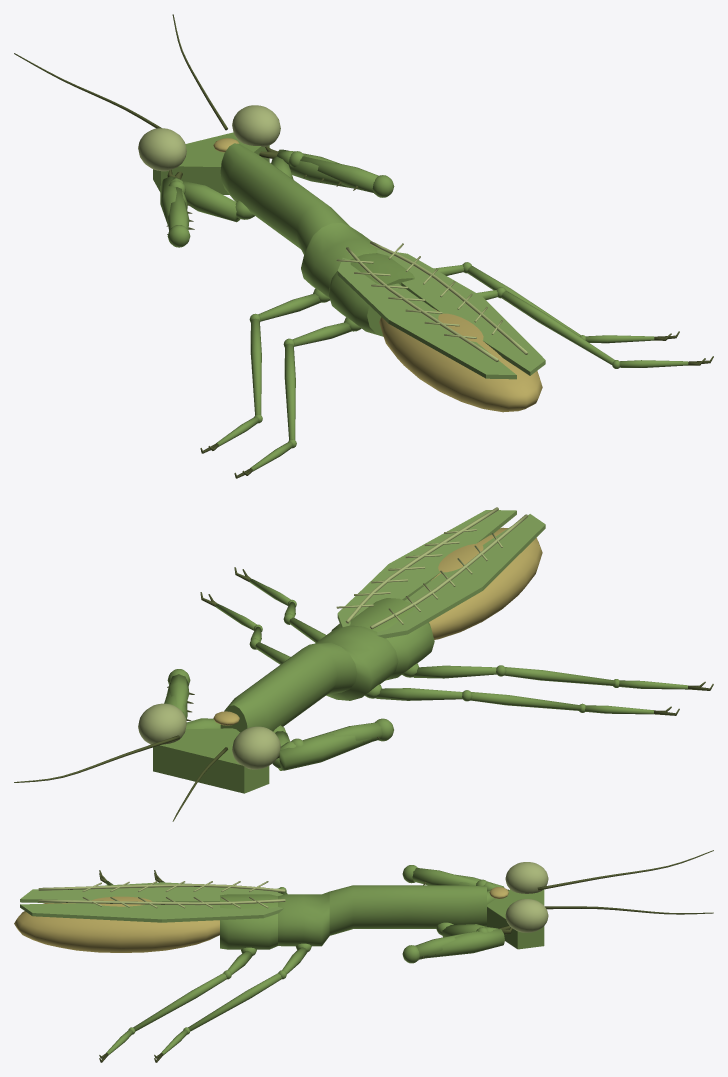
Rendered from Mantis.fbx.
The picture shows the model from 3 angles, top to bottom: view 1: azimuth 30°, elevation 25°; view 2: azimuth 150°, elevation 25°; view 3: azimuth 270°, elevation 25°; orthographic projection. The views are drawn at different scales.
Parts seen in each view (by area): view 1: Material group Mantis_GreenCuticle, Material group Mantis_Forewing, Material group Mantis_VentralOchre, Material group Mantis_Eye, Material group Mantis_Vein, Material group Mantis_JointSpine; view 2: Material group Mantis_GreenCuticle, Material group Mantis_Forewing, Material group Mantis_VentralOchre, Material group Mantis_Eye, Material group Mantis_Vein, Material group Mantis_JointSpine; view 3: Material group Mantis_GreenCuticle, Material group Mantis_Forewing, Material group Mantis_VentralOchre, Material group Mantis_Eye, Material group Mantis_Vein, Material group Mantis_JointSpine.
Boxes of the visible parts, box(x1,y1,x2,y2) form: Material group Mantis_GreenCuticle: box(153, 132, 688, 471); Material group Mantis_Forewing: box(337, 249, 545, 379); Material group Mantis_VentralOchre: box(213, 138, 542, 412); Material group Mantis_Eye: box(138, 105, 280, 171); Material group Mantis_Vein: box(336, 241, 527, 361); Material group Mantis_JointSpine: box(14, 14, 713, 478); Material group Mantis_GreenCuticle: box(153, 579, 687, 793); Material group Mantis_Forewing: box(337, 510, 545, 638); Material group Mantis_VentralOchre: box(213, 527, 542, 725); Material group Mantis_Eye: box(138, 703, 280, 769); Material group Mantis_Vein: box(336, 507, 527, 629); Material group Mantis_JointSpine: box(14, 567, 713, 821); Material group Mantis_GreenCuticle: box(105, 865, 544, 1055); Material group Mantis_Forewing: box(20, 882, 283, 922); Material group Mantis_VentralOchre: box(14, 887, 508, 952); Material group Mantis_Eye: box(505, 862, 548, 932); Material group Mantis_Vein: box(38, 881, 285, 908); Material group Mantis_JointSpine: box(99, 850, 713, 1062).
Bounding box in the file's own units: 0.6381 × 0.1408 × 1.
